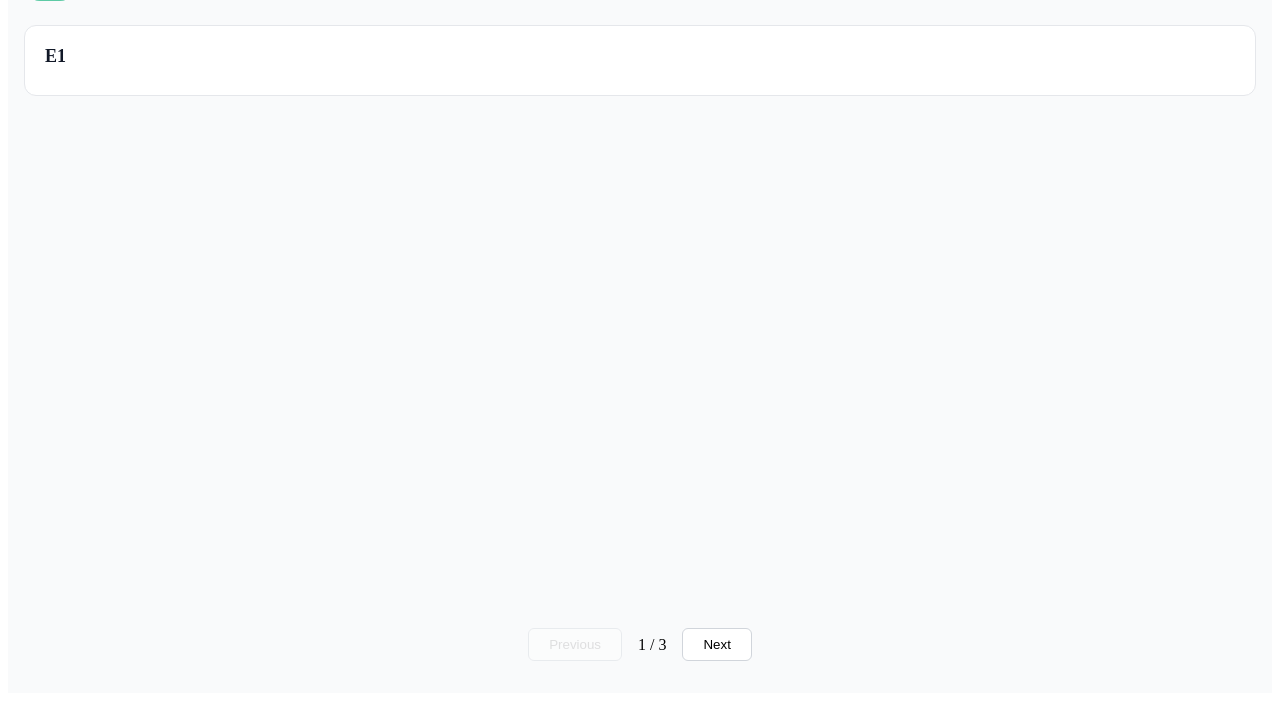
it: pagination Next button increments page
This screenshot has width=1280, height=701.
(page scrolled)
Click the button "Next".
click(717, 644)  # box x1=682 y1=628 x2=752 y2=661
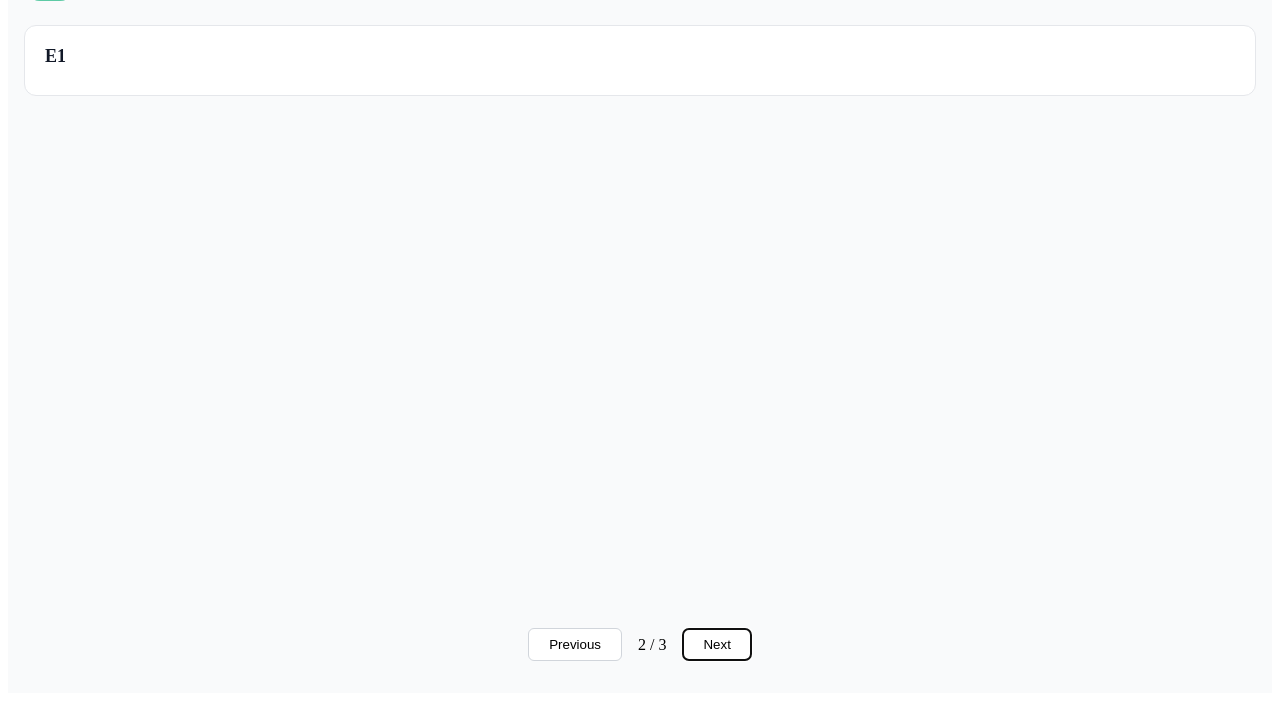
Check: the text "2 / 3" is shown, box x1=638 y1=636 x2=666 y2=654
